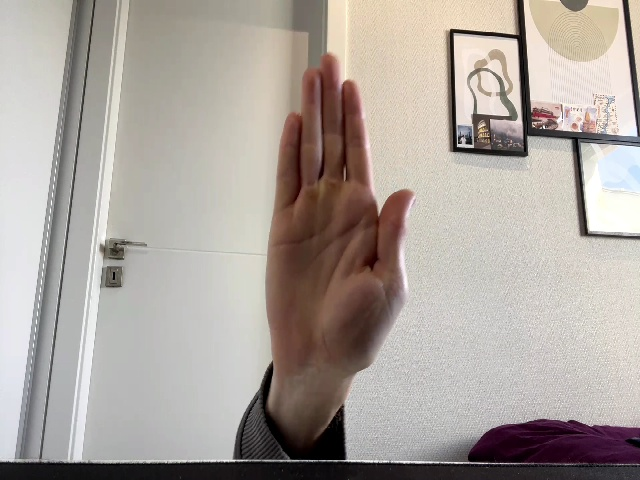B: (265, 53, 415, 386)
